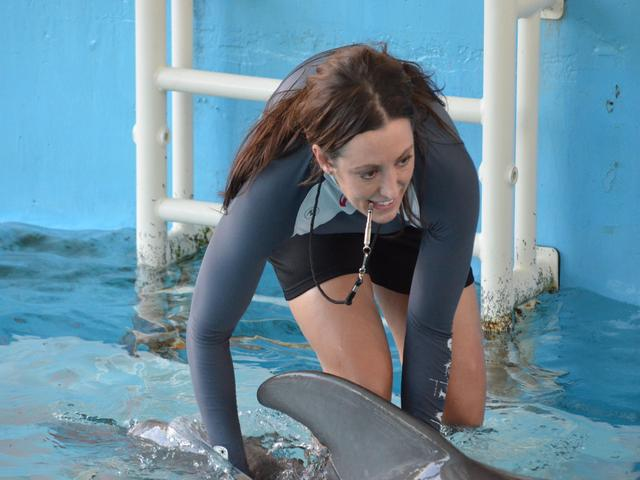dolphin: (82, 366, 640, 469)
